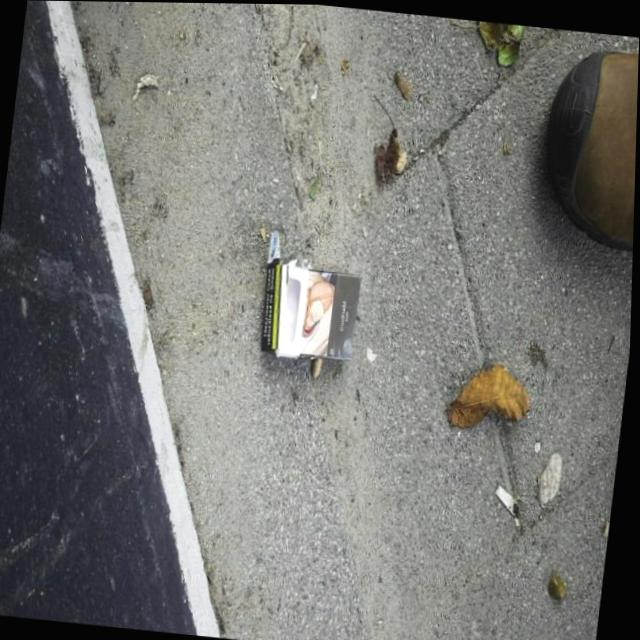Paper: (257, 226, 368, 365)
